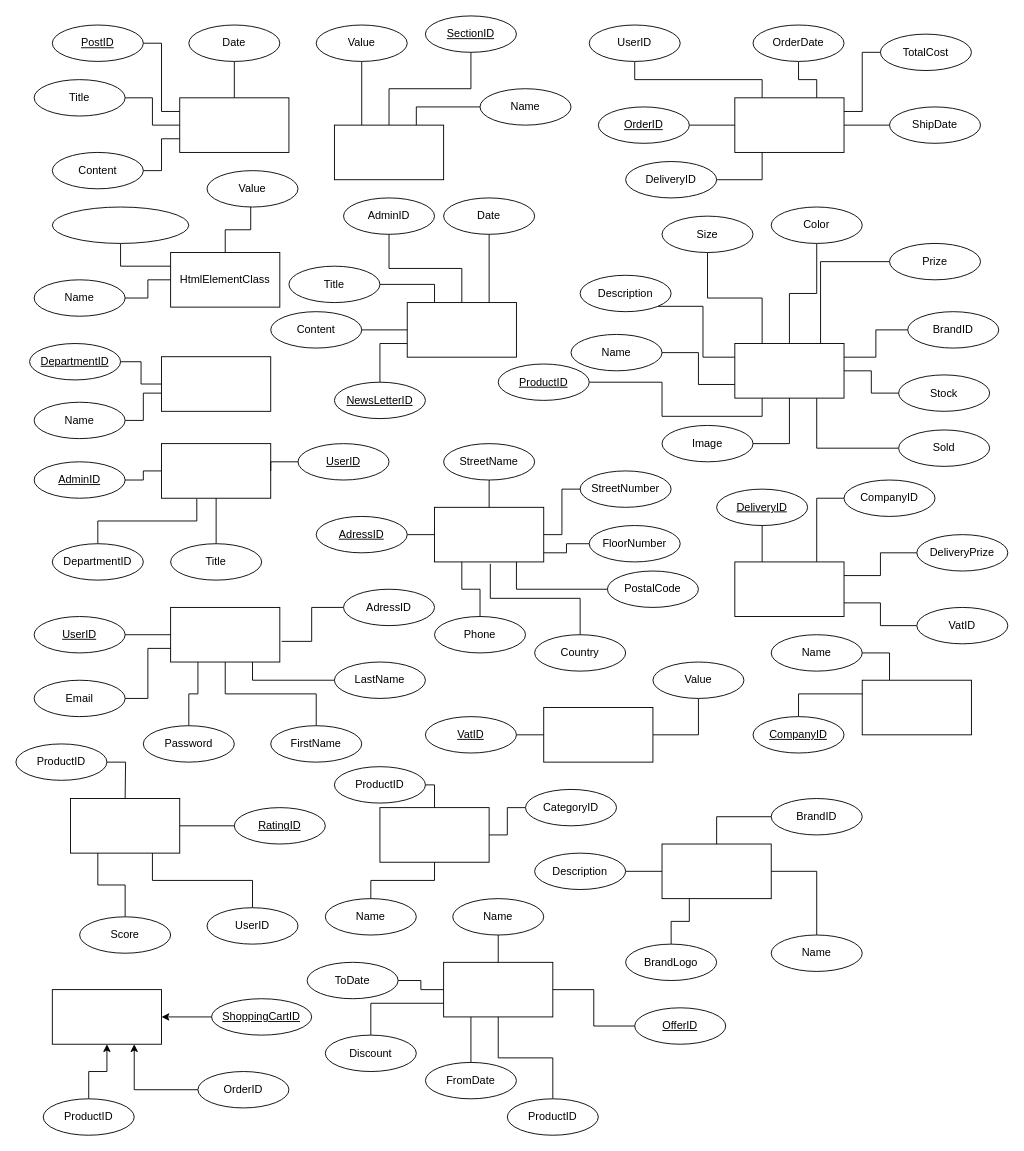
The diagram is 1024 pixels wide and 1151 high, and some of its shapes have lost their labels. Here are the shapes that lost their labels. From the top down, the centre of each, then its label:
At (234,124): "NewsPost".
At (789,124): "Order".
At (389,152): "PageContent".
At (120,224): "HtmlElementClassID".
At (461,329): "NewsLetter".
At (216,383): "Department".
At (789,370): "Product".
At (216,470): "Admin".
At (489,534): "Adress".
At (789,589): "Delivery".
At (225,634): "User".
At (916,707): "Company".
At (598,734): "Vat".
At (125,825): "Rating".
At (434,834): "Category".
At (716,871): "Brand".
At (498,989): "Offer".
At (106,1016): "ShoppingCart".
